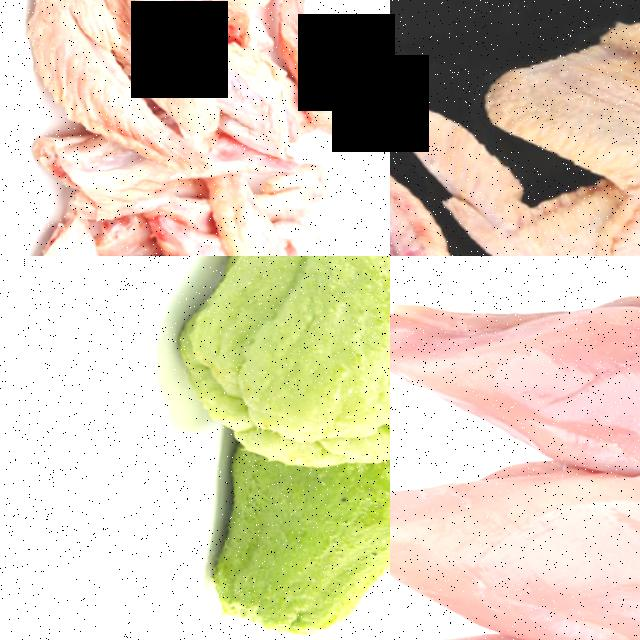chayote: (127, 256, 390, 469), (168, 443, 390, 640)
chicken breast: (390, 256, 640, 506), (390, 412, 640, 640)
chicken wing: (454, 0, 640, 256), (1, 0, 225, 174), (249, 0, 390, 149)
